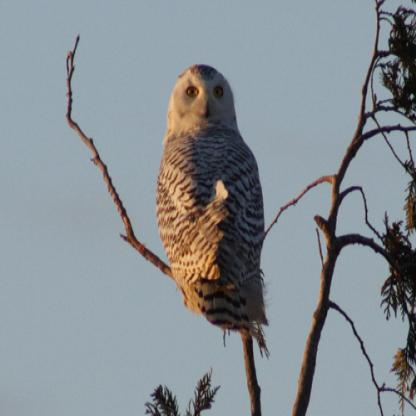bird: (153, 62, 272, 335)
